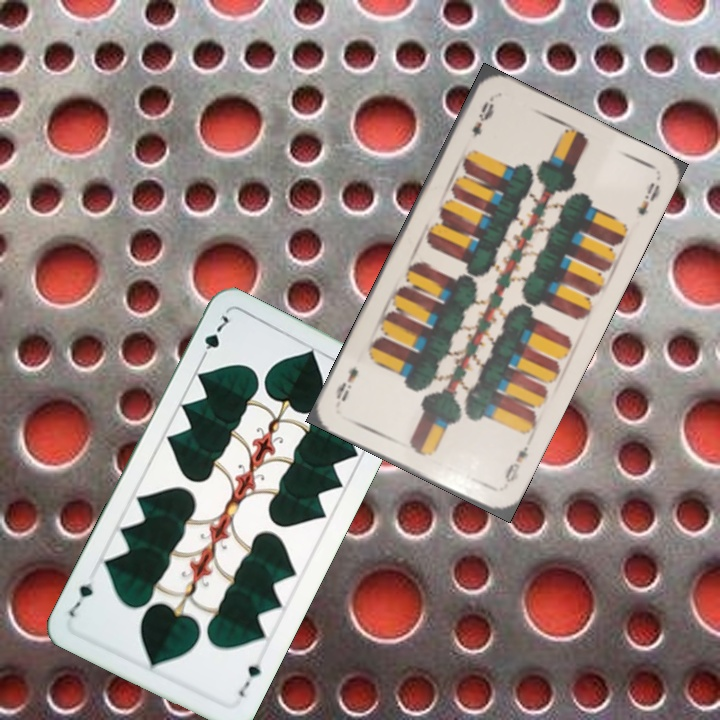E9: (500, 436, 533, 485), (467, 94, 497, 139)
G7: (196, 311, 232, 365), (234, 659, 264, 700)
